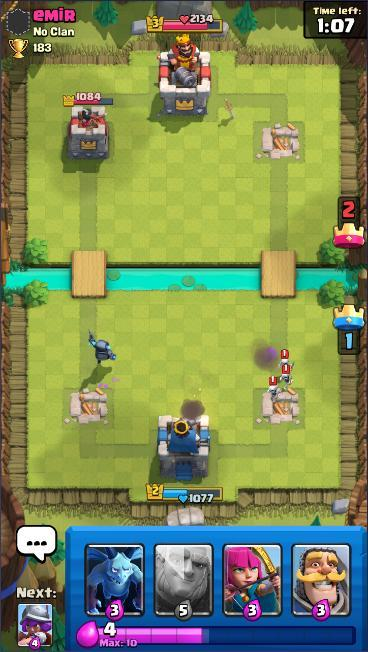EGoblinCage: (84, 327, 119, 367)
OEVElectroDrag: (276, 348, 298, 378), (276, 364, 296, 391), (266, 375, 283, 406)
